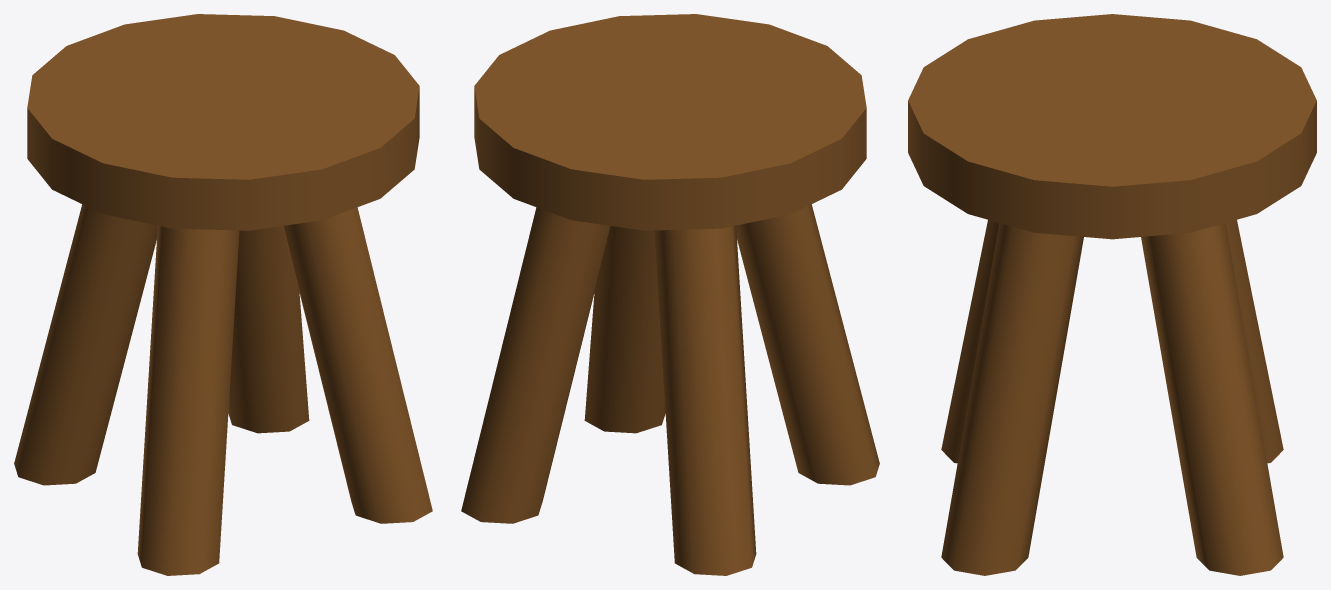
File: furniture_stool.fbx
3 renders of one model, left to right at view 1: azimuth 30°, elevation 25°; view 2: azimuth 150°, elevation 25°; view 3: azimuth 270°, elevation 25°, orthographic. The views are drawn at different scales.
Parts seen in each view (by area): view 1: furniture_stool; view 2: furniture_stool; view 3: furniture_stool.
Part boxes in pixels (x1,y1,x2,y2): furniture_stool: [14, 14, 432, 575]; furniture_stool: [461, 14, 879, 575]; furniture_stool: [908, 14, 1316, 575].
Size of the model in its own units: 46.46 by 50.58 by 46.46.
